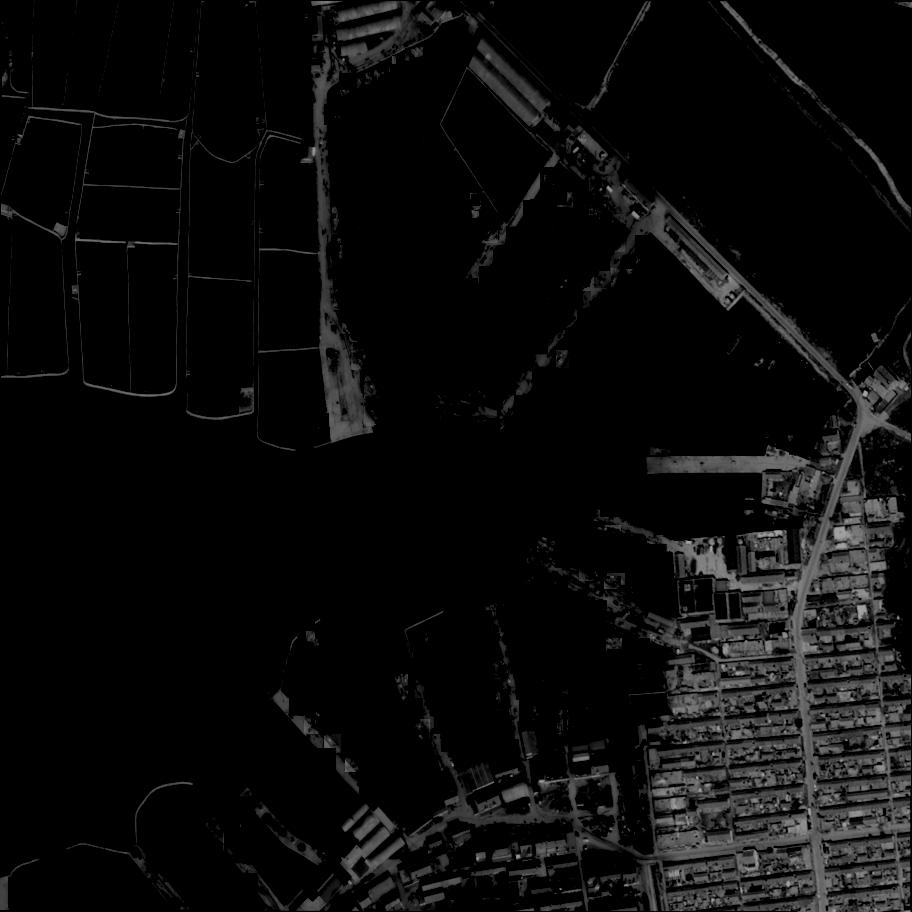ship: (223, 815, 255, 864), (204, 833, 231, 861), (312, 748, 337, 776), (723, 334, 746, 360), (240, 873, 259, 903), (532, 367, 554, 392), (290, 660, 310, 687), (146, 843, 163, 874), (540, 167, 558, 196), (304, 713, 327, 735), (630, 506, 655, 526), (477, 223, 500, 244), (289, 690, 307, 716), (591, 288, 614, 308), (283, 653, 298, 683), (547, 710, 561, 742), (364, 374, 381, 400), (311, 709, 331, 731), (550, 178, 567, 203), (493, 245, 513, 266), (471, 215, 492, 235), (433, 413, 455, 432), (234, 797, 256, 816), (579, 563, 601, 582), (514, 395, 530, 421), (364, 402, 381, 426), (395, 674, 410, 701), (312, 415, 328, 440), (538, 374, 558, 394), (544, 175, 564, 195), (406, 699, 425, 720), (574, 268, 593, 289), (549, 347, 568, 368), (528, 336, 549, 355), (477, 639, 493, 663), (390, 645, 406, 669), (516, 353, 535, 373), (461, 278, 480, 297), (324, 734, 342, 754), (606, 623, 630, 638), (579, 272, 597, 292), (588, 600, 608, 618), (299, 623, 316, 644), (607, 628, 628, 645), (578, 308, 595, 329), (501, 375, 518, 396), (352, 349, 368, 371), (629, 639, 651, 655), (440, 378, 462, 394), (496, 372, 512, 394), (333, 209, 347, 234), (555, 554, 578, 569), (342, 312, 357, 335), (518, 400, 533, 423), (546, 581, 564, 600), (359, 775, 377, 794), (567, 332, 586, 350), (9, 878, 20, 909), (523, 575, 543, 592), (414, 720, 431, 740), (587, 245, 604, 265), (548, 314, 565, 334), (567, 705, 580, 731), (548, 578, 569, 594), (483, 636, 498, 658), (593, 254, 611, 272), (542, 219, 559, 238), (519, 703, 533, 726), (456, 417, 479, 431), (537, 538, 557, 554), (436, 408, 456, 424), (607, 215, 627, 231), (564, 293, 584, 309), (479, 267, 495, 287), (506, 227, 526, 243), (477, 610, 492, 631), (477, 219, 492, 240), (502, 597, 515, 621), (434, 711, 447, 735), (595, 525, 621, 537), (479, 422, 501, 436), (583, 608, 605, 622), (540, 532, 558, 549), (339, 73, 357, 90), (635, 236, 652, 254), (556, 284, 574, 301), (541, 305, 559, 322), (603, 227, 619, 246), (592, 197, 608, 216), (626, 587, 645, 603), (528, 676, 543, 696), (410, 724, 425, 744), (496, 689, 509, 712), (552, 188, 569, 205), (559, 547, 577, 563), (508, 348, 524, 366), (513, 350, 529, 368), (547, 223, 562, 242), (573, 233, 588, 252), (431, 627, 445, 647), (627, 256, 641, 276), (556, 350, 570, 370), (545, 309, 559, 329), (576, 180, 590, 200), (542, 714, 553, 739), (524, 200, 535, 225), (575, 334, 588, 355), (568, 591, 589, 604), (605, 576, 623, 591), (600, 292, 614, 311), (361, 377, 373, 399), (425, 389, 436, 413), (601, 505, 623, 517), (592, 250, 605, 270), (468, 387, 488, 400), (610, 236, 626, 252), (621, 255, 638, 270), (535, 298, 552, 313), (525, 700, 536, 723), (530, 704, 544, 722), (324, 105, 336, 126), (441, 735, 455, 753), (599, 224, 613, 242), (606, 636, 624, 650), (506, 247, 518, 268), (528, 206, 540, 227), (472, 394, 493, 406), (650, 544, 668, 558), (403, 671, 413, 696), (350, 308, 360, 333), (641, 239, 654, 258), (609, 297, 622, 316), (567, 205, 586, 218), (344, 759, 360, 774), (563, 286, 575, 306), (565, 329, 577, 349), (532, 208, 544, 228), (607, 573, 627, 585), (557, 192, 573, 207), (580, 241, 595, 257), (545, 590, 562, 604), (572, 267, 586, 284), (584, 560, 601, 574), (578, 236, 592, 253), (507, 740, 520, 758), (519, 652, 532, 670), (342, 210, 351, 236), (640, 247, 658, 260), (589, 205, 607, 218), (541, 216, 554, 234), (528, 567, 549, 578), (485, 665, 496, 686), (321, 413, 331, 436), (539, 303, 556, 316), (334, 288, 345, 308), (537, 212, 548, 232), (540, 676, 552, 694), (570, 200, 588, 212), (571, 188, 589, 200), (650, 447, 671, 457), (625, 536, 646, 546), (557, 278, 570, 294), (605, 296, 617, 313), (526, 573, 546, 583), (330, 176, 338, 201), (336, 105, 346, 125), (612, 268, 622, 288), (628, 519, 653, 527), (510, 652, 519, 674), (500, 717, 509, 739), (586, 242, 597, 260), (557, 711, 564, 739), (752, 519, 771, 529), (675, 531, 692, 542), (420, 662, 428, 685), (428, 629, 437, 649), (338, 154, 347, 174), (328, 129, 337, 149), (510, 623, 517, 648), (405, 48, 417, 62), (337, 238, 344, 262), (332, 206, 338, 234), (767, 359, 779, 373), (571, 194, 586, 205), (535, 674, 544, 692), (494, 692, 501, 715), (533, 546, 553, 554), (332, 104, 340, 124), (586, 216, 599, 228), (459, 247, 471, 260), (500, 599, 507, 621), (428, 688, 435, 710), (439, 389, 461, 396), (461, 178, 472, 192), (355, 215, 363, 234), (628, 585, 647, 593), (476, 640, 483, 661), (517, 679, 524, 700), (542, 599, 560, 607), (414, 632, 422, 650), (343, 155, 351, 173), (333, 131, 341, 149), (611, 231, 619, 249), (449, 232, 461, 244), (379, 62, 390, 75), (647, 251, 658, 264), (753, 358, 766, 369), (776, 438, 789, 449), (471, 194, 482, 207), (332, 241, 339, 261), (451, 236, 465, 246), (590, 208, 599, 223), (462, 253, 473, 265), (444, 224, 455, 236), (469, 207, 481, 218), (442, 162, 454, 173), (470, 201, 482, 212), (446, 230, 459, 240), (446, 166, 456, 179), (463, 182, 473, 195), (505, 623, 511, 644), (494, 662, 500, 683), (425, 739, 434, 753), (629, 638, 654, 643), (427, 41, 439, 51), (506, 716, 512, 736), (306, 632, 316, 644), (629, 650, 649, 656), (450, 170, 460, 182), (655, 526, 667, 536), (340, 89, 349, 102), (455, 171, 464, 184), (565, 707, 570, 730), (349, 211, 354, 234), (330, 152, 336, 171), (334, 154, 340, 173), (57, 893, 64, 909), (396, 59, 406, 70), (579, 687, 589, 698), (233, 822, 243, 833), (458, 244, 468, 255), (473, 216, 484, 226), (631, 656, 649, 662), (789, 447, 801, 456), (423, 41, 431, 54), (404, 53, 412, 66), (455, 241, 468, 249), (465, 189, 478, 197), (411, 632, 416, 652), (384, 65, 393, 76), (363, 81, 372, 92), (365, 73, 374, 84), (312, 638, 321, 649), (406, 794, 417, 803), (404, 796, 413, 807), (634, 661, 645, 670), (605, 645, 619, 652), (374, 70, 382, 82), (742, 515, 754, 523), (517, 651, 522, 670), (363, 348, 368, 367), (292, 656, 296, 679), (402, 56, 409, 69), (430, 37, 440, 46), (459, 175, 468, 185), (419, 44, 427, 55), (743, 506, 754, 514), (441, 222, 452, 230), (744, 500, 755, 508), (523, 680, 528, 697), (360, 73, 366, 87), (564, 689, 570, 703), (334, 266, 338, 287), (411, 50, 420, 59), (416, 47, 424, 57), (467, 193, 478, 200), (539, 730, 543, 749), (569, 687, 575, 699), (425, 630, 429, 648), (338, 91, 344, 103), (743, 498, 755, 504), (743, 511, 755, 517), (473, 212, 482, 220), (584, 705, 591, 715), (596, 705, 603, 715), (390, 62, 396, 73), (573, 688, 578, 701), (588, 705, 595, 714), (528, 677, 531, 696), (347, 89, 351, 103), (421, 632, 424, 649), (351, 88, 356, 98), (576, 708, 582, 716), (309, 637, 317, 643), (156, 794, 162, 802), (577, 689, 582, 698), (580, 702, 585, 711), (601, 706, 606, 715), (392, 57, 397, 65), (358, 79, 362, 89), (313, 666, 316, 678), (306, 671, 310, 680), (434, 34, 439, 40), (381, 71, 384, 81), (594, 704, 597, 713), (308, 667, 311, 674), (761, 433, 768, 436), (371, 69, 372, 76)
